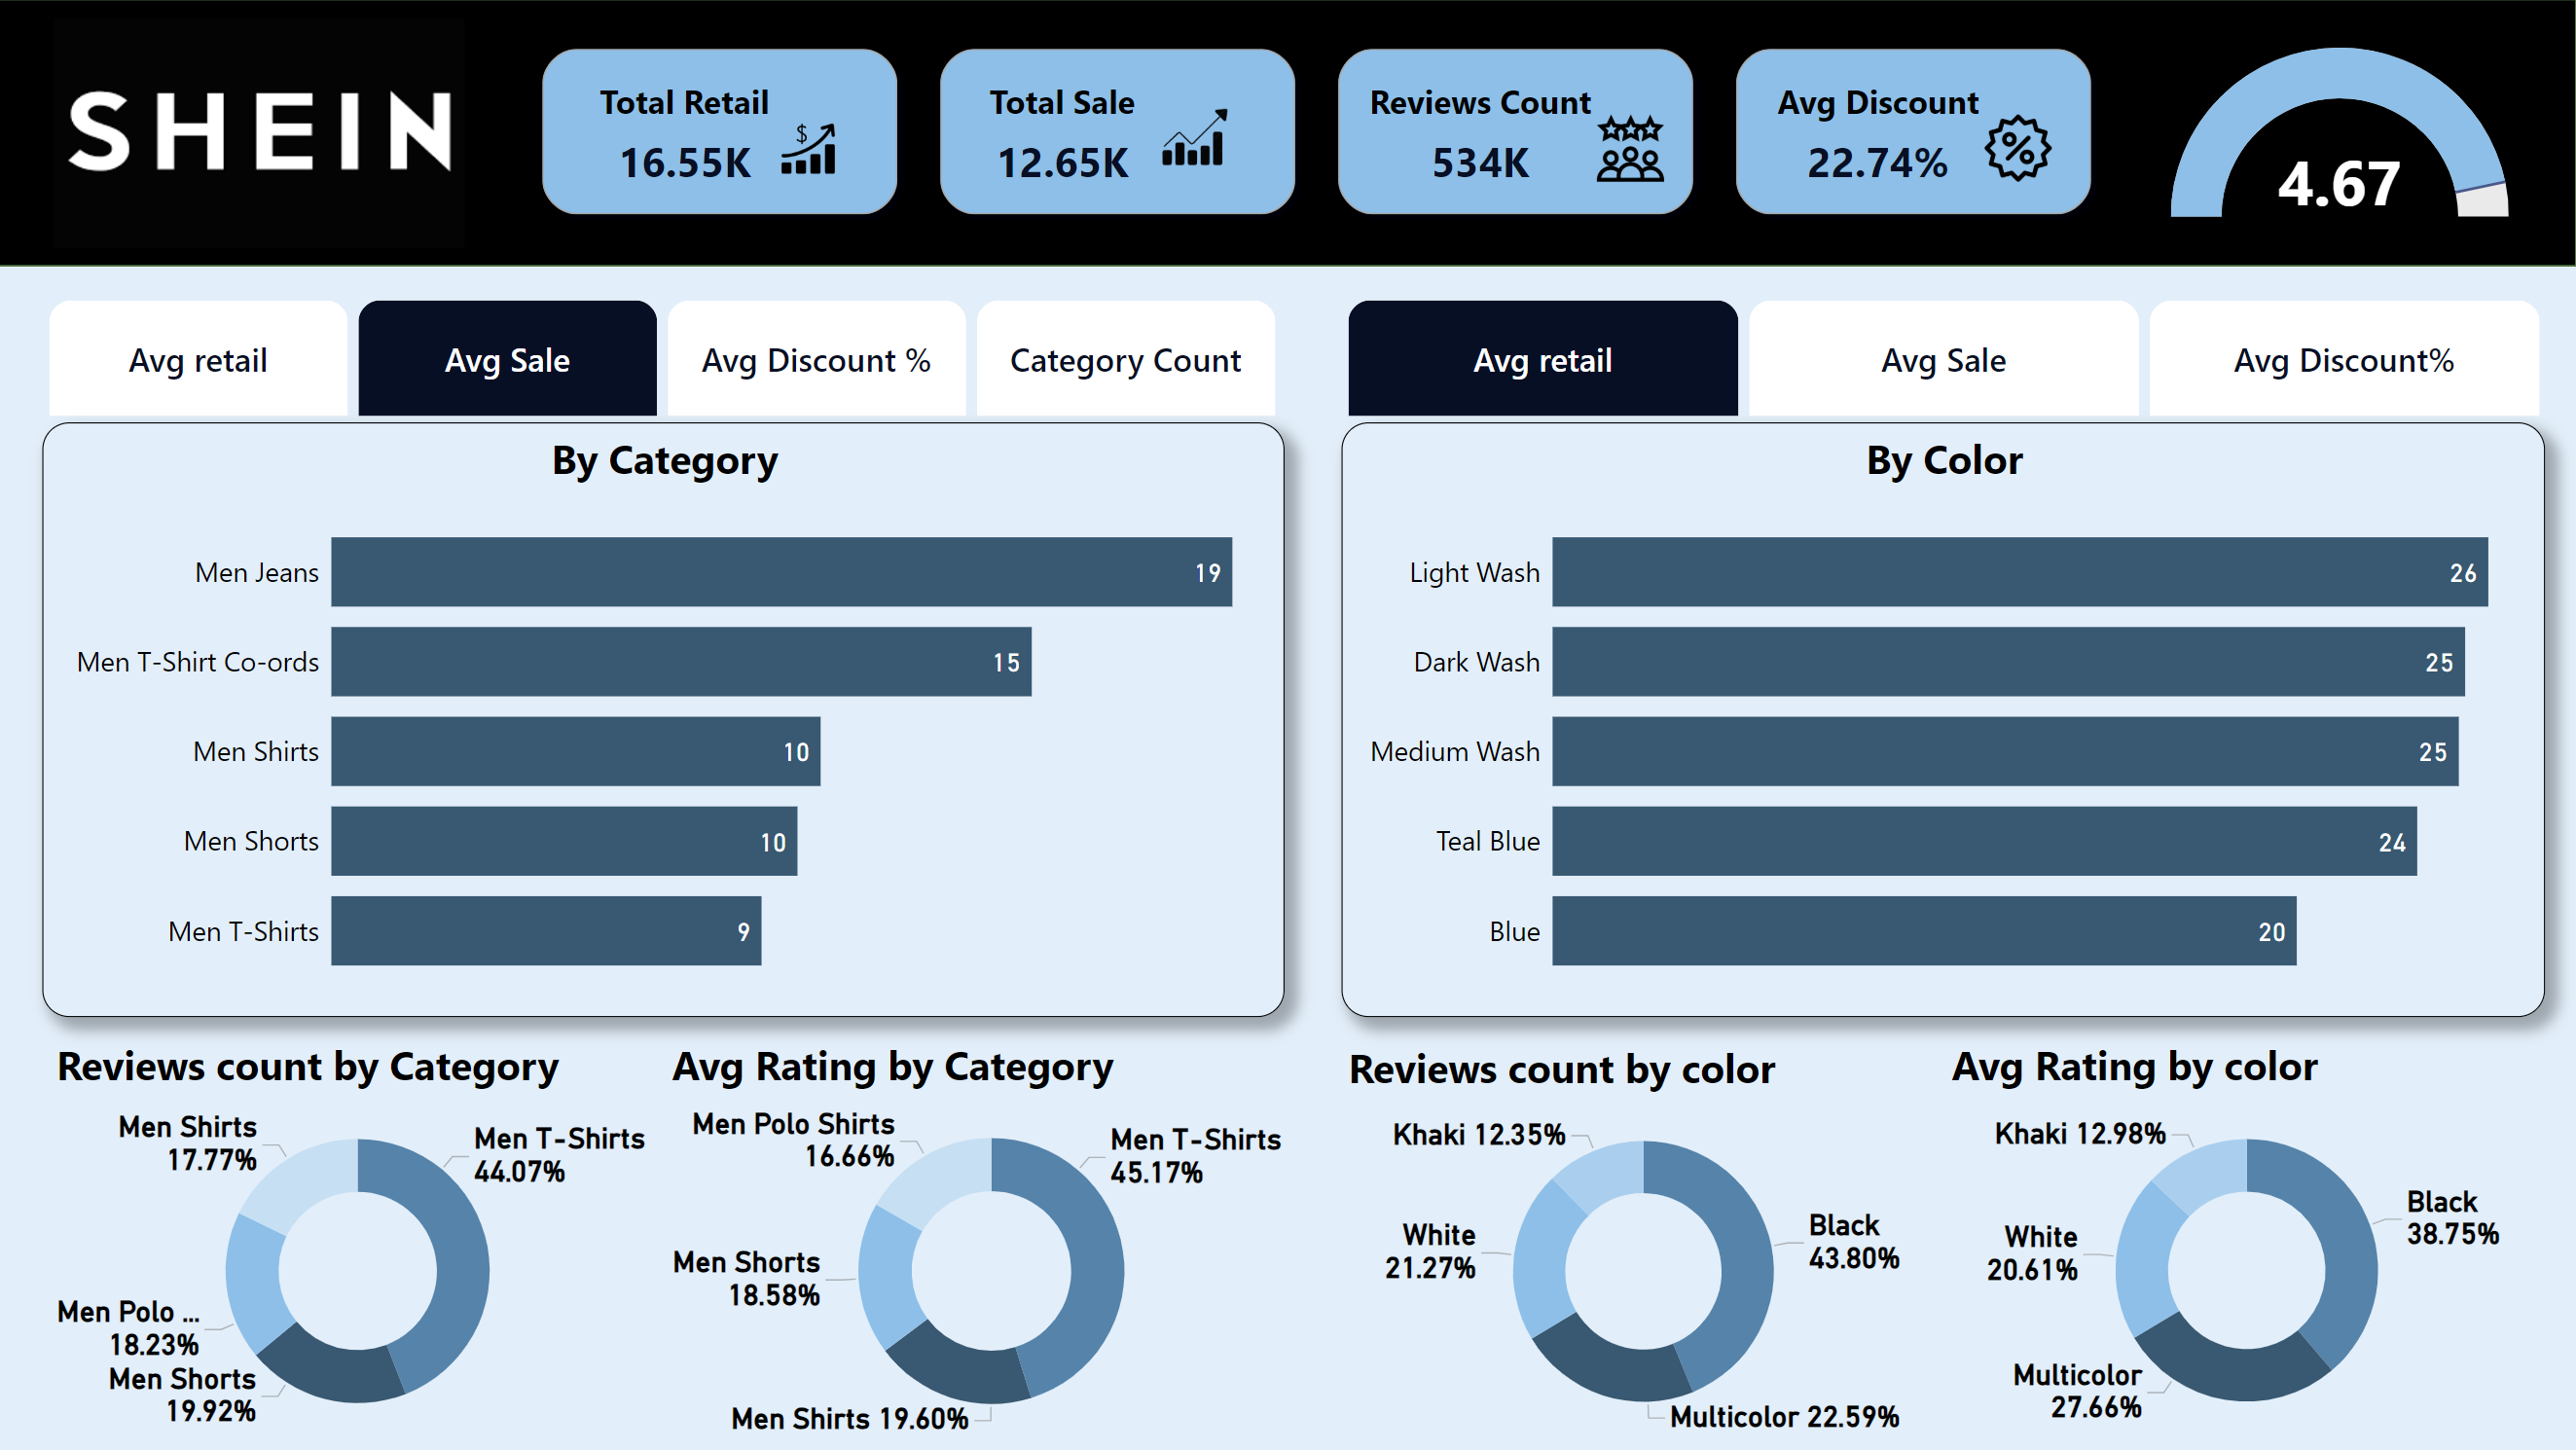

The dashboard page shown, as its layout file describes it:
{"tool":"powerbi","page":{"name":"Page 1","canvas":[1920,1080],"ordinal":0},"visuals":[{"type":"shape","box":[0,0,1920,198.8],"z":0},{"type":"cardVisual","fields":{"Data":["_Measures.Total Retail Price","_Measures.Total sale Price","Sum(Dim_review.reviews_count)","_Measures.Avg Discount%"]},"box":[389.1,19.9,1187.1,157.4],"z":1000},{"type":"barChart","title":"By Color","fields":{"Y":["_Measures.Avg retail"],"Category":["Fact_Product.color"]},"box":[1000.3,314.9,895.4,442.5],"z":2000},{"type":"gauge","fields":{"Y":["Avg(Dim_review.average_rating)"]},"box":[1611.7,0,261.4,197.6],"z":3000},{"type":"image","box":[20.6,8.2,352,181.1],"z":4000},{"type":"advancedSlicerVisual","fields":{"Values":["Parameter.Parameter"]},"box":[1000.3,218.2,897.4,96.7],"z":5000},{"type":"advancedSlicerVisual","fields":{"Values":["Parameter 2.Parameter"]},"box":[35,218.2,924.2,96.7],"z":6000},{"type":"barChart","title":"By Category","fields":{"Y":["_Measures.Avg Sale"],"Category":["Dim_Category.category_name"]},"box":[35,314.9,924.2,442.5],"z":7000},{"type":"donutChart","title":"Reviews count by Category","fields":{"Category":["Dim_Category.category_name"],"Y":["_Measures.Review Percentage"]},"box":[39.8,772.7,457.8,307.6],"z":8000},{"type":"donutChart","title":"Avg Rating by Category","fields":{"Category":["Dim_Category.category_name","Fact_Product.color"],"Y":["Sum(Fact_Product.average_rating)"]},"box":[497.7,772.7,485,307.6],"z":9000},{"type":"donutChart","title":"Reviews count by color","fields":{"Category":["Fact_Product.color"],"Y":["Sum(Dim_review.reviews_count)"]},"box":[1000.3,773.9,448.7,304.6],"z":10000},{"type":"donutChart","title":"Avg Rating by color","fields":{"Category":["Fact_Product.color"],"Y":["Sum(Dim_review.average_rating)"]},"box":[1449.1,771.9,448.7,306.7],"z":11000}]}

Visuals, with their boxes in screenshot pixels (x1, y1, x2, y2), scaled from the page's 1920x1080 canvas onto the 2576x1450 screenshot:
shape: left=0, top=0, right=2575, bottom=267
cardVisual - _Measures.Total Retail Price x _Measures.Total sale Price: left=522, top=26, right=2115, bottom=238
"By Color" barChart: left=1342, top=422, right=2543, bottom=1017
gauge - Avg(Dim_review.average_rating): left=2162, top=0, right=2513, bottom=266
image: left=27, top=11, right=500, bottom=254
advancedSlicerVisual - Parameter.Parameter: left=1342, top=293, right=2546, bottom=422
advancedSlicerVisual - Parameter 2.Parameter: left=47, top=293, right=1287, bottom=422
"By Category" barChart: left=47, top=422, right=1287, bottom=1017
"Reviews count by Category" donutChart: left=54, top=1037, right=668, bottom=1449
"Avg Rating by Category" donutChart: left=668, top=1037, right=1319, bottom=1449
"Reviews count by color" donutChart: left=1342, top=1039, right=1944, bottom=1448
"Avg Rating by color" donutChart: left=1944, top=1036, right=2546, bottom=1448
